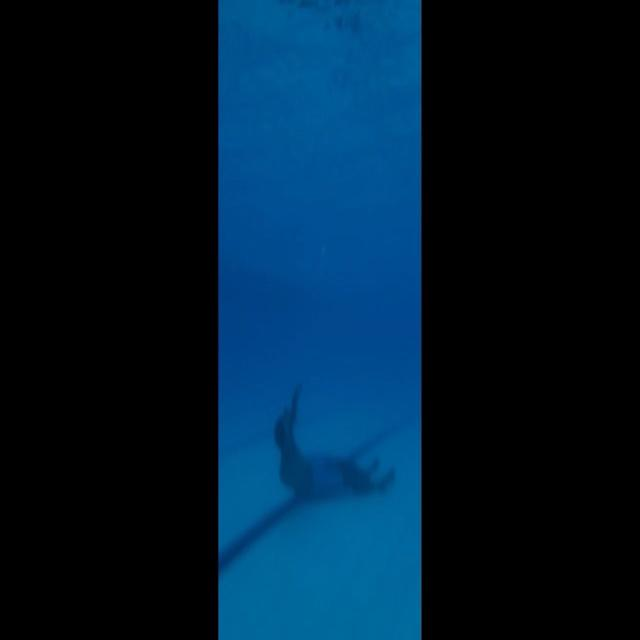drowning: (268, 357, 413, 530)
